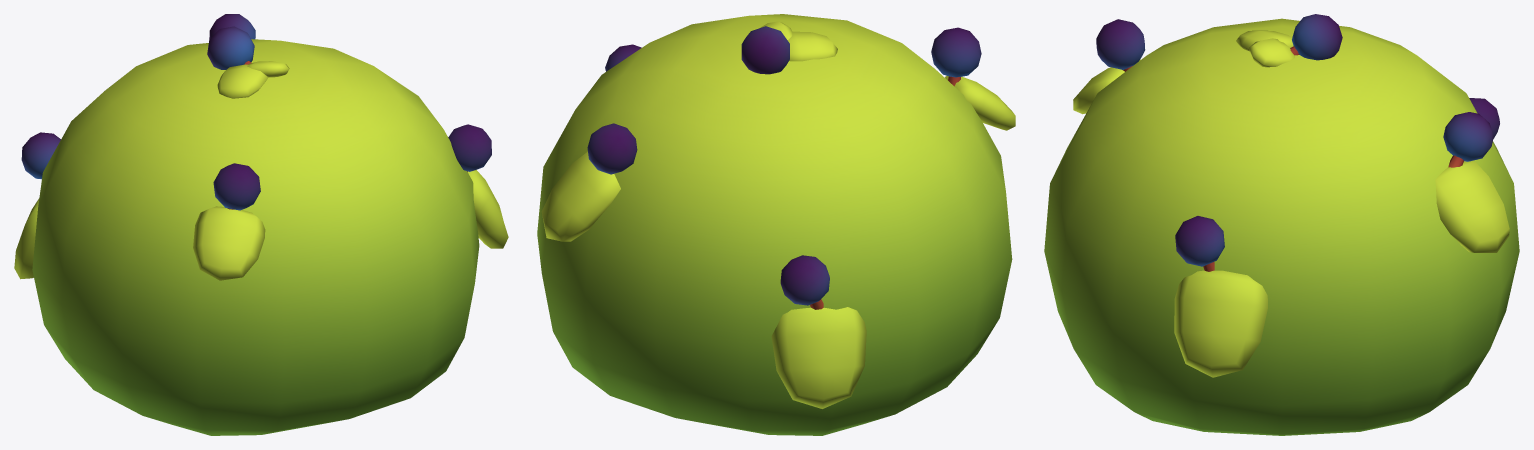
File: Bush_02.fbx
3 renders of one model, left to right at view 1: azimuth 30°, elevation 25°; view 2: azimuth 150°, elevation 25°; view 3: azimuth 270°, elevation 25°, orthographic. The views are drawn at different scales.
Visible parts, largest first — view 1: Bush_Berries; view 2: Bush_Berries; view 3: Bush_Berries.
Boxes of the visible parts, left/top/right/bottom form: Bush_Berries: left=14, top=14, right=508, bottom=435; Bush_Berries: left=537, top=14, right=1015, bottom=435; Bush_Berries: left=1044, top=14, right=1519, bottom=435.
Bounding box in the file's own units: 0.7889 × 0.6202 × 0.7426.
Materials: 1 (1 with a texture image).
